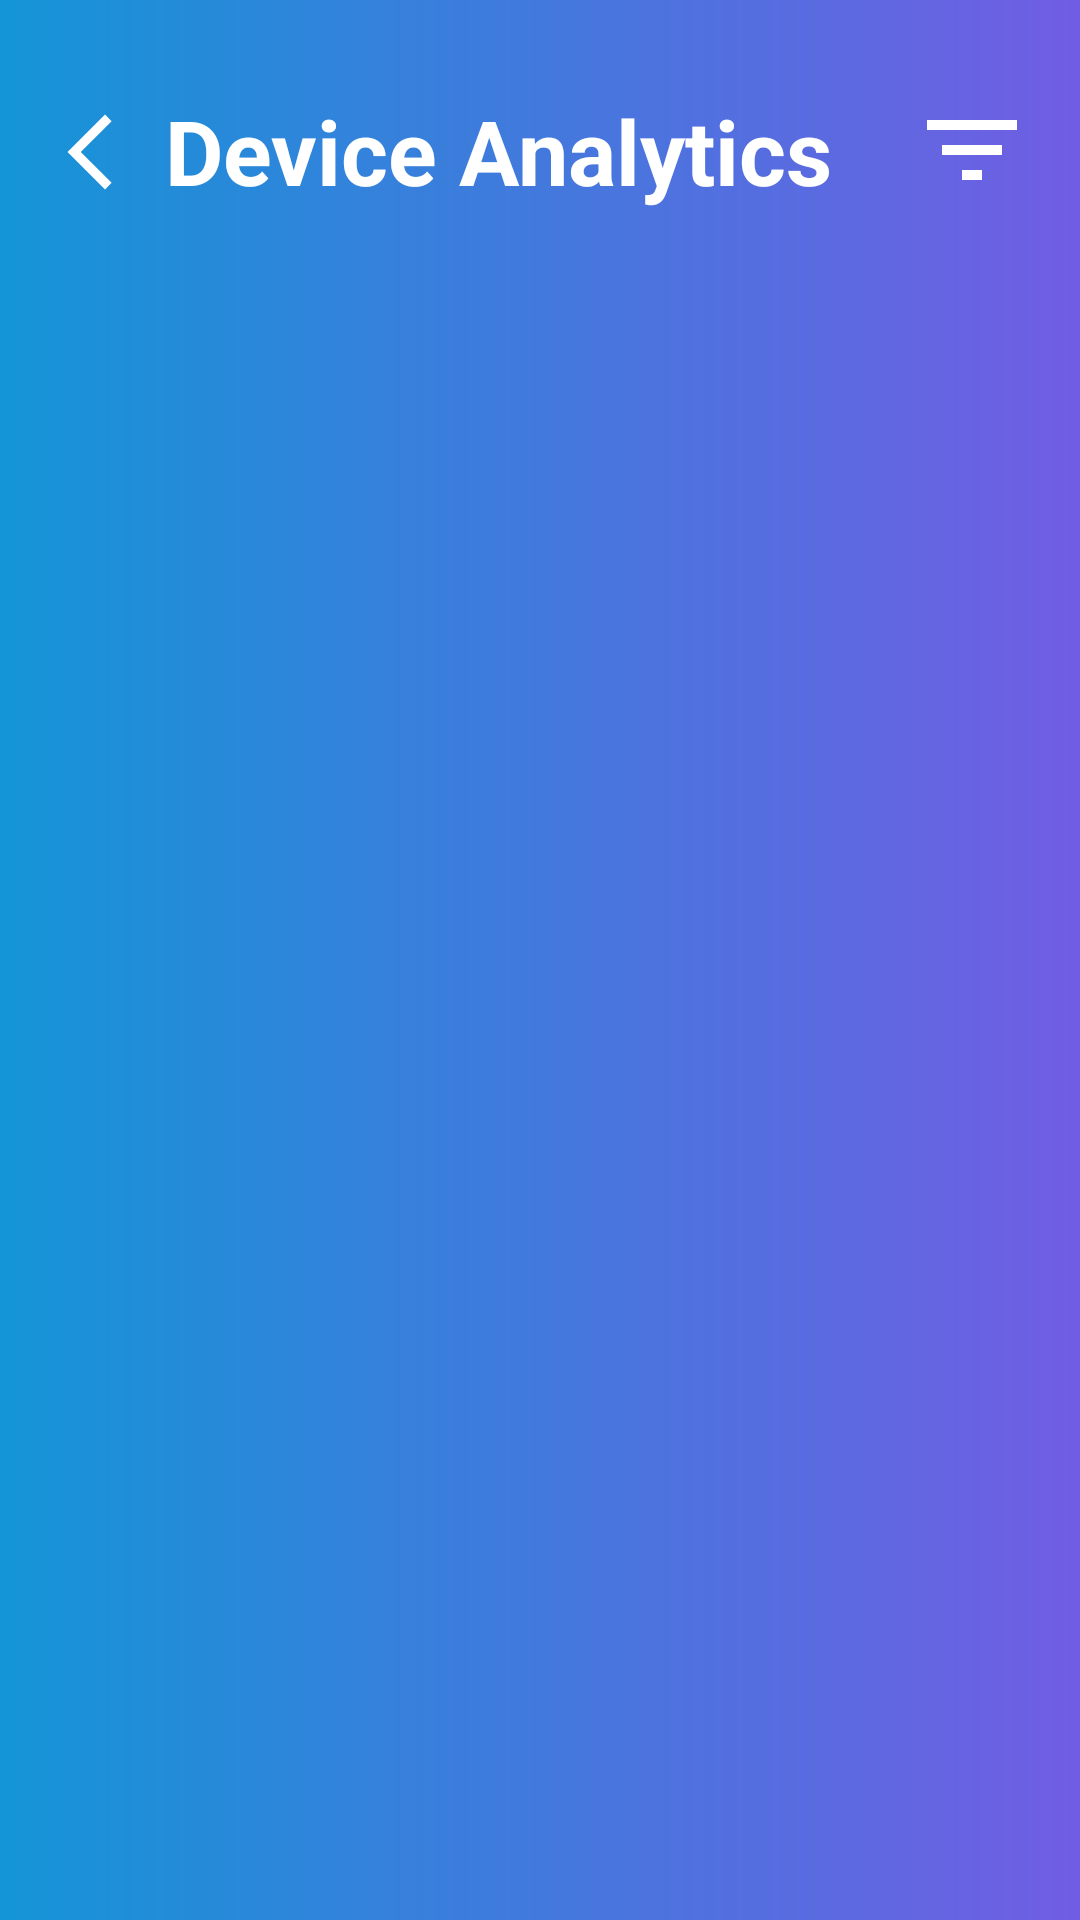

Screen size 1080×1920. Icon name, then its center in pixels as [x,y]:
arrow back: [89,152]
filter list: [972,150]
